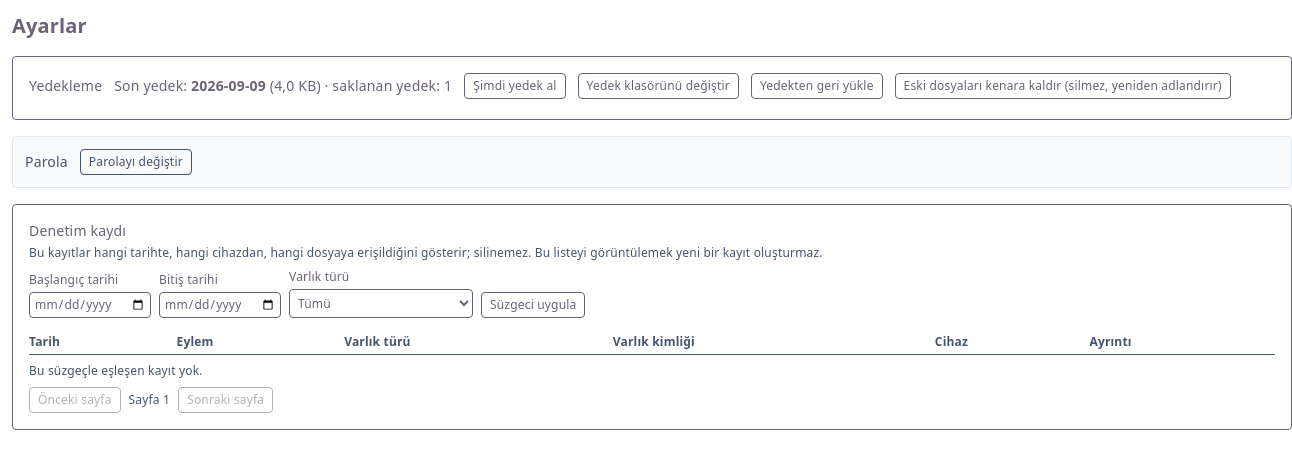
Scenario: AyarlarSekmesi — davranış (AnaEkran.test.tsx içinden taşındı) › kenara kaldirma basarisiz olursa sunucunun mesaji OLDUGU GIBI gosterilir
Step 1. Click the button "Eski dosyaları kenara kaldır (silmez, yeniden adlandırır)" → (1063,86), box top-left (895, 73), bottom-right (1231, 99)
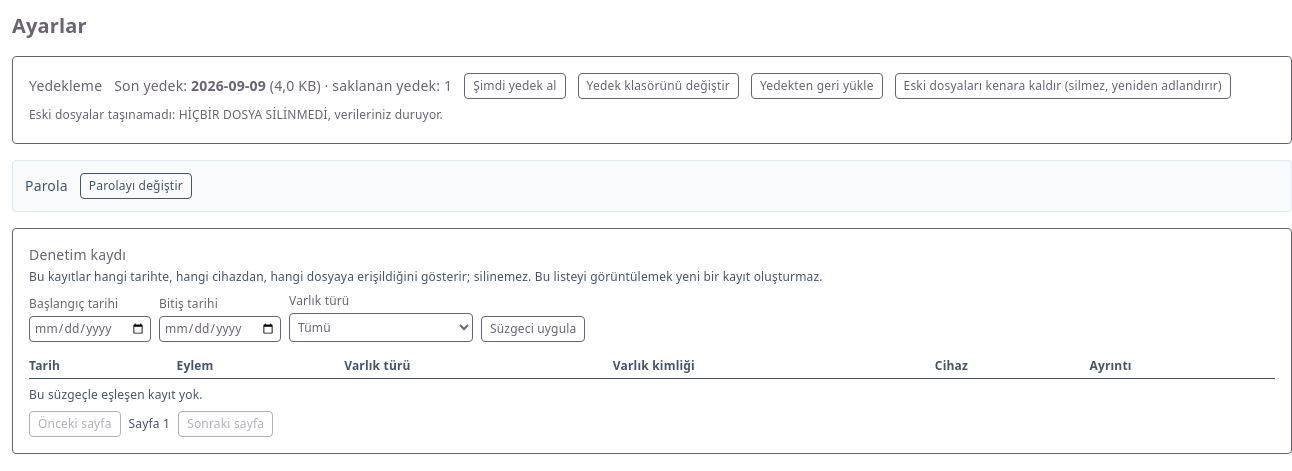
Expected: the message reads "Eski dosyalar taşınamadı: HİÇBİR DOSYA SİLİNMEDİ, verileriniz duruyor.", top-left (29, 106), bottom-right (443, 123)
